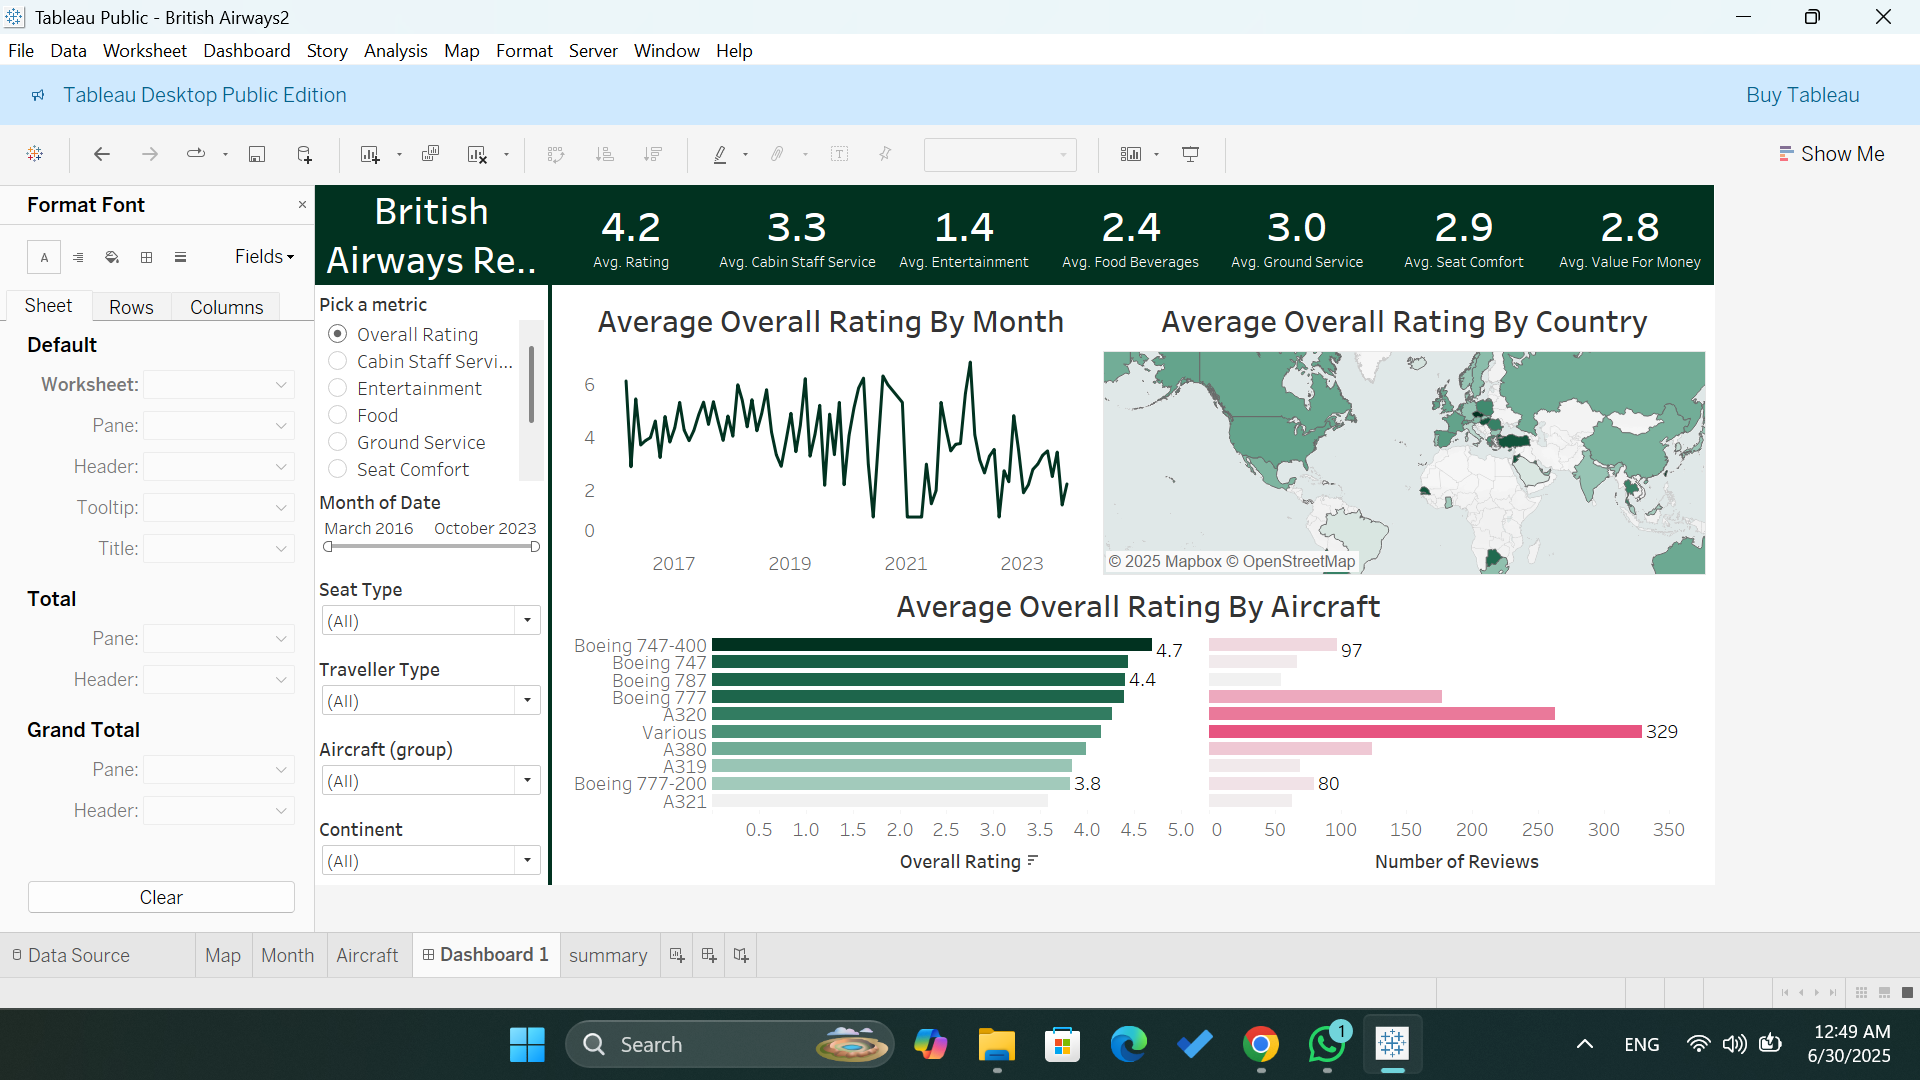

This screenshot's page, from the dashboard's own definition file:
{"tool":"tableau","page":{"name":"Dashboard 1","canvas":[1200,700],"ordinal":0},"visuals":[{"type":"text","box":[0,0,200,100]},{"type":"worksheet","title":"summary","mark":"Automatic","box":[200,0,999,100]},{"type":"blank","box":[200,100,3,600]},{"type":"parameter","param":"[Parameters].[Parameter 1]","box":[0,102,200,198]},{"type":"worksheet","title":"Month","mark":"Automatic","rows":["Calculation_467529988195790848"],"cols":["date"],"box":[220,110,444,280]},{"type":"worksheet","title":"Map","mark":"Automatic","box":[675,110,517,280]},{"type":"filter","title":"Map","param":"[federated.1pcnwoo1g4pvph10ksfk00hadk1e].[tmn:date:qk]","box":[0,300,200,77]},{"type":"blank","box":[0,377,200,10]},{"type":"filter","title":"Map","param":"[federated.1pcnwoo1g4pvph10ksfk00hadk1e].[none:seat_type:nk]","box":[0,387,200,70]},{"type":"worksheet","title":"Aircraft","mark":"Automatic","cols":["Calculation_467529988195790848","ba_reviews.csv_693B5AD7C0CC43C9AB5E245D8FB67E5F"],"box":[220,395,971,300]},{"type":"blank","box":[0,457,200,10]},{"type":"filter","title":"Map","param":"[federated.1pcnwoo1g4pvph10ksfk00hadk1e].[none:traveller_type:nk]","box":[0,467,200,70]},{"type":"blank","box":[0,537,200,10]},{"type":"filter","title":"Map","param":"[federated.1pcnwoo1g4pvph10ksfk00hadk1e].[Aircraft (group)]","box":[0,547,200,70]},{"type":"blank","box":[0,617,200,10]},{"type":"filter","title":"Map","param":"[federated.1pcnwoo1g4pvph10ksfk00hadk1e].[none:Continent:nk]","box":[0,627,200,70]}]}

Visuals, with their boxes on the page's 1200x700 design canvas (x1, y1, x2, y2). These are canvas units, not pixel positions in the 1920x1080 screenshot, which may show the page scaled, cropped or inside an application window:
text: region(0, 0, 200, 100)
"summary" worksheet: region(200, 0, 1199, 100)
blank: region(200, 100, 203, 700)
parameter: region(0, 102, 200, 300)
"Month" worksheet: region(220, 110, 664, 390)
"Map" worksheet: region(675, 110, 1192, 390)
"Map" filter: region(0, 300, 200, 377)
blank: region(0, 377, 200, 387)
"Map" filter: region(0, 387, 200, 457)
"Aircraft" worksheet: region(220, 395, 1191, 695)
blank: region(0, 457, 200, 467)
"Map" filter: region(0, 467, 200, 537)
blank: region(0, 537, 200, 547)
"Map" filter: region(0, 547, 200, 617)
blank: region(0, 617, 200, 627)
"Map" filter: region(0, 627, 200, 697)
